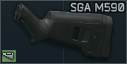M590A1 Magpul SGA stock: (0, 0, 127, 64)
